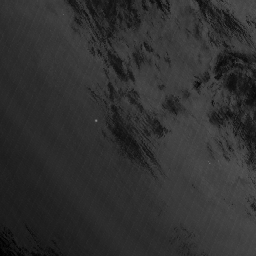Target: (93, 118, 98, 124)
